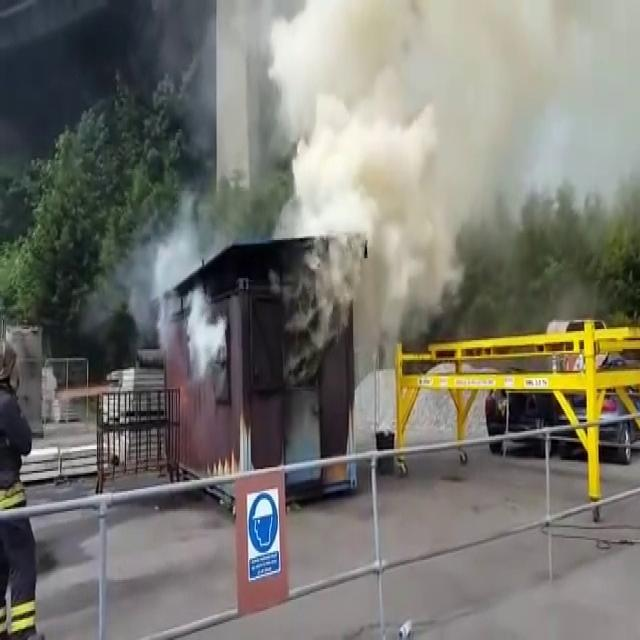Smoke: (274, 3, 468, 328), (157, 268, 230, 397)
